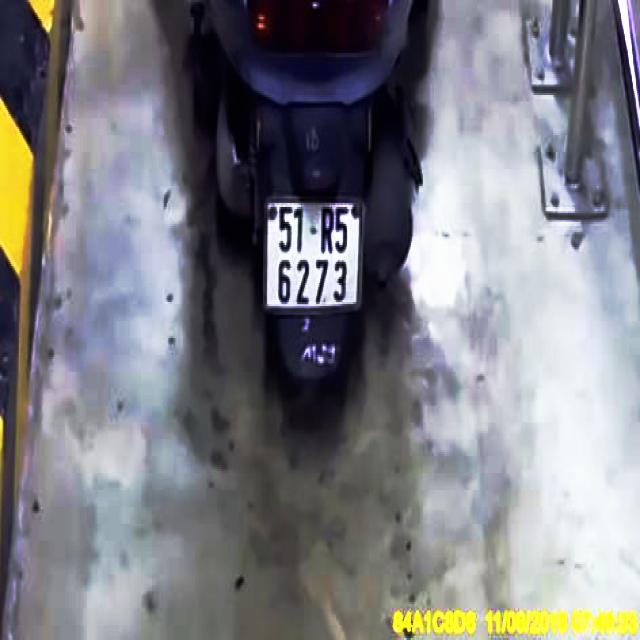license_plate: (266, 200, 365, 313)
